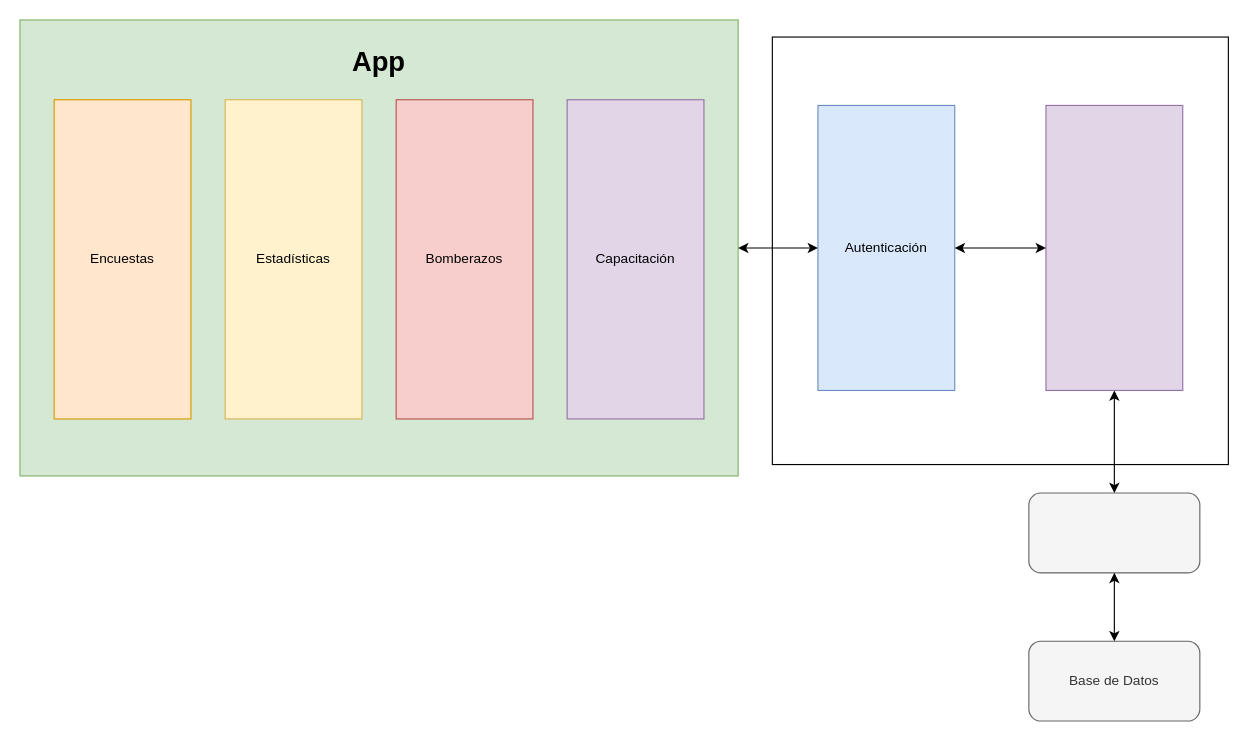
Image size: 1248x741. Some labels were removed from this diagram. The centre of each missing label's shape, as x and y in pixels:
"Autorización" goes at point (1114, 247).
"Web API" goes at point (1114, 532).
